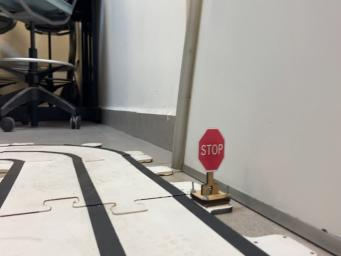stop: (190, 129, 230, 206), (190, 129, 230, 206), (190, 129, 230, 206)
street: (0, 145, 268, 255), (0, 145, 268, 255), (0, 145, 268, 255)
